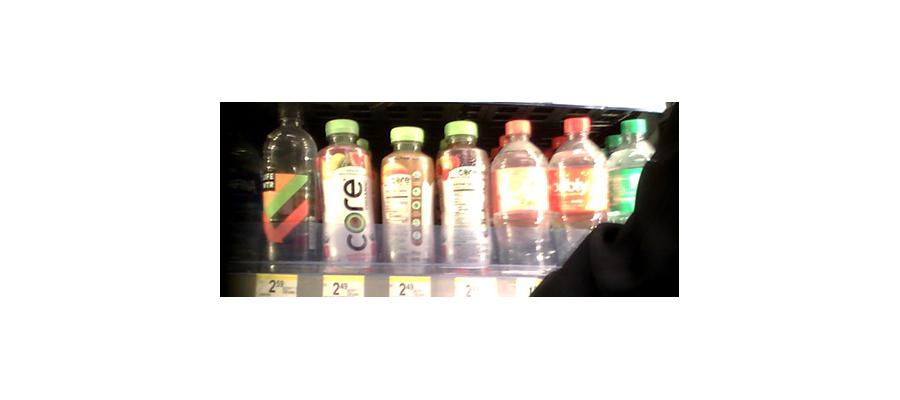bottle: (261, 101, 318, 266), (491, 118, 550, 274), (318, 118, 376, 268), (435, 119, 490, 275), (376, 125, 434, 272), (552, 114, 605, 261), (607, 114, 650, 230)
